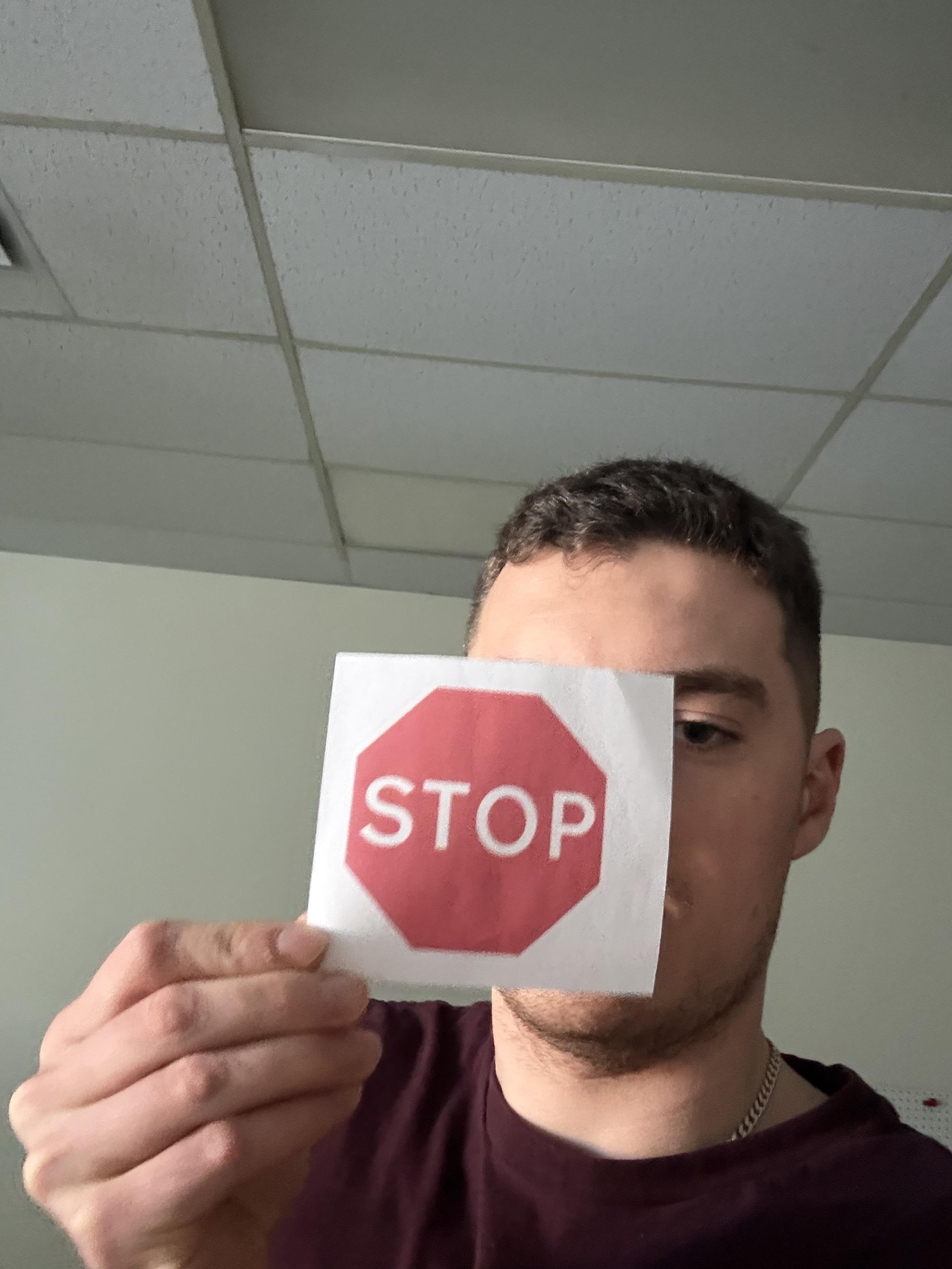Stop: (230, 879, 504, 1268)
